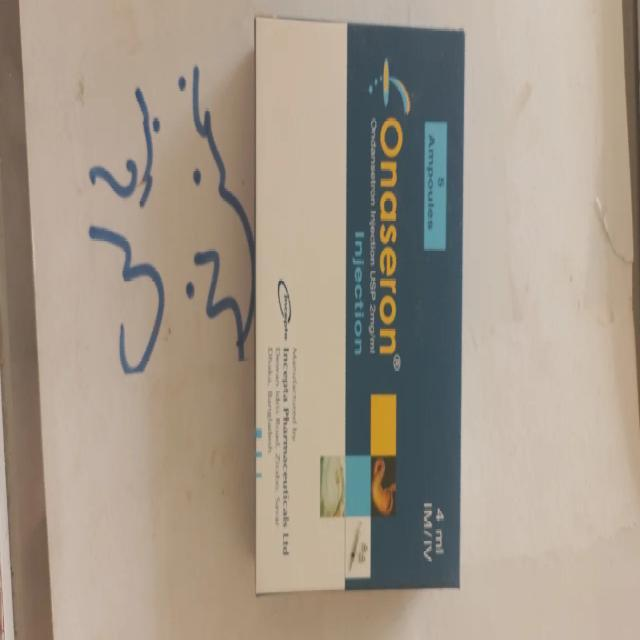drug-name: (378, 115, 399, 358)
